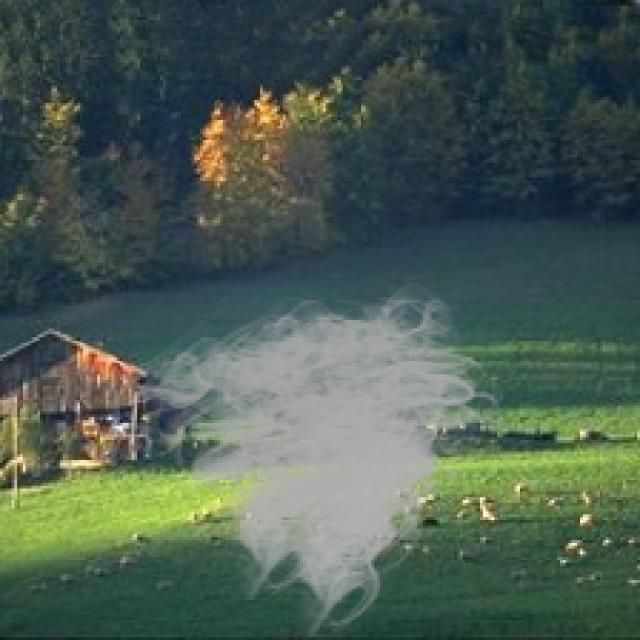smoke: (97, 274, 514, 637)
